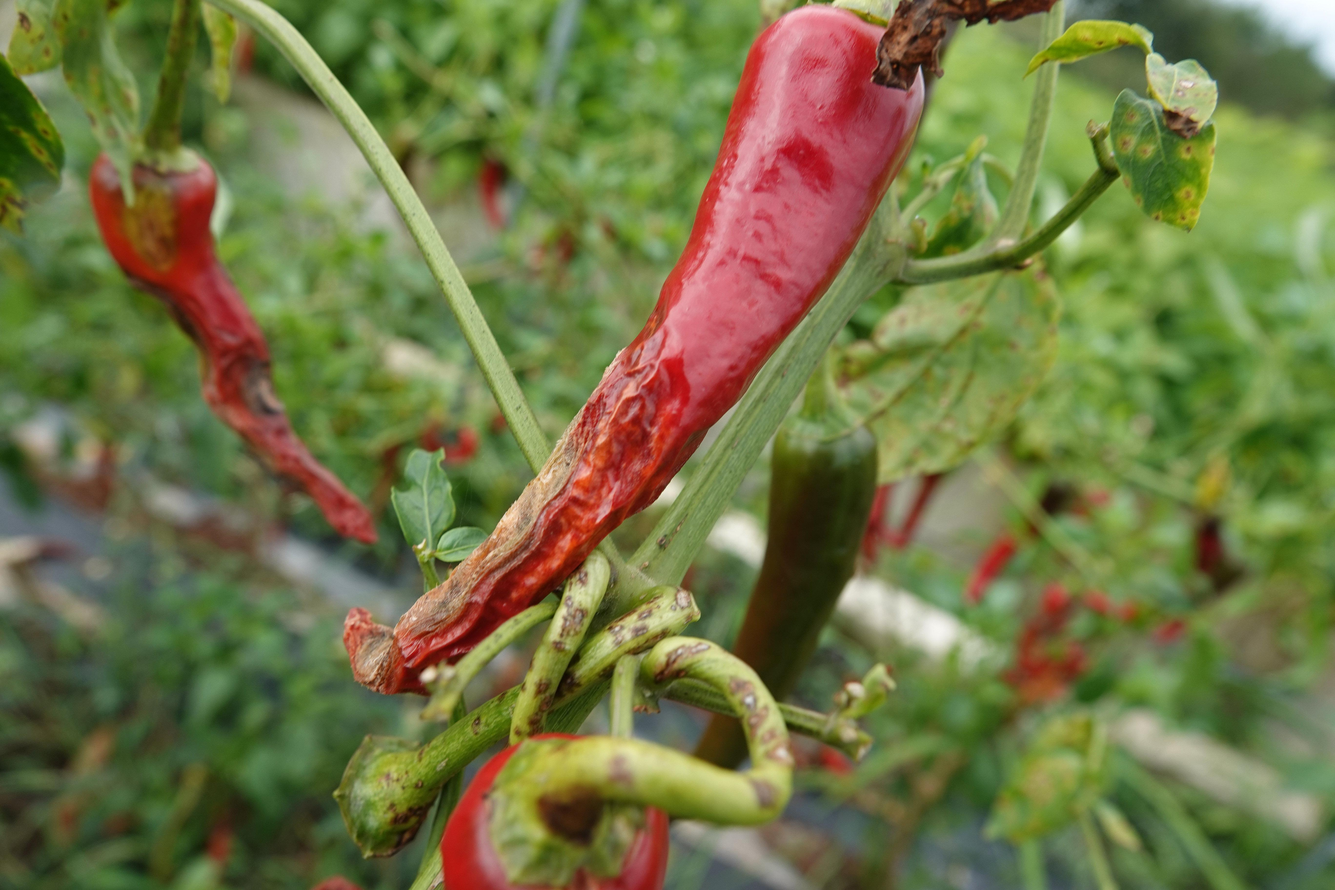Busuk Buah Antraknosa: (341, 4, 929, 699), (78, 140, 379, 547)
